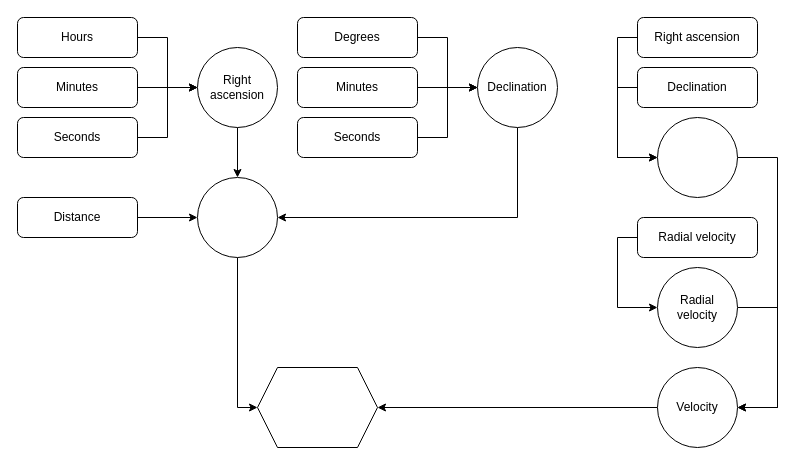
This 803x465 diagram has some shape labels left out. Each missing label, with the centre of its shape:
"Method 1" goes at point (317, 407).
"Position" goes at point (237, 217).
"Proper motion" goes at point (697, 157).
